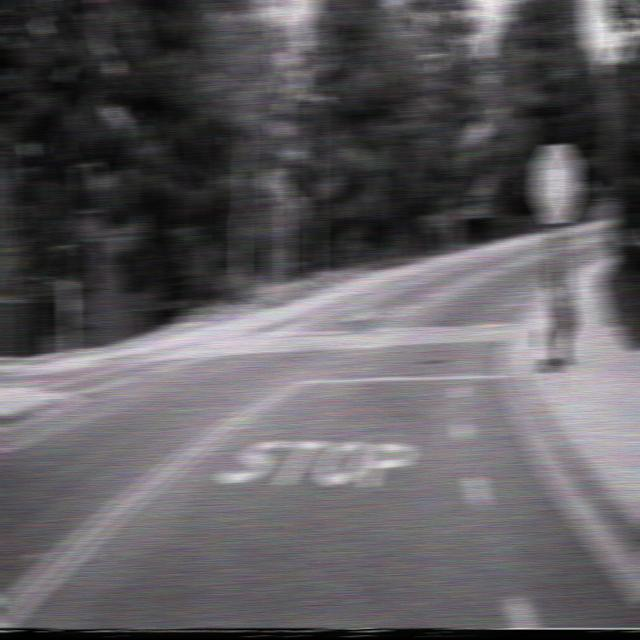stop: (532, 142, 580, 223)
